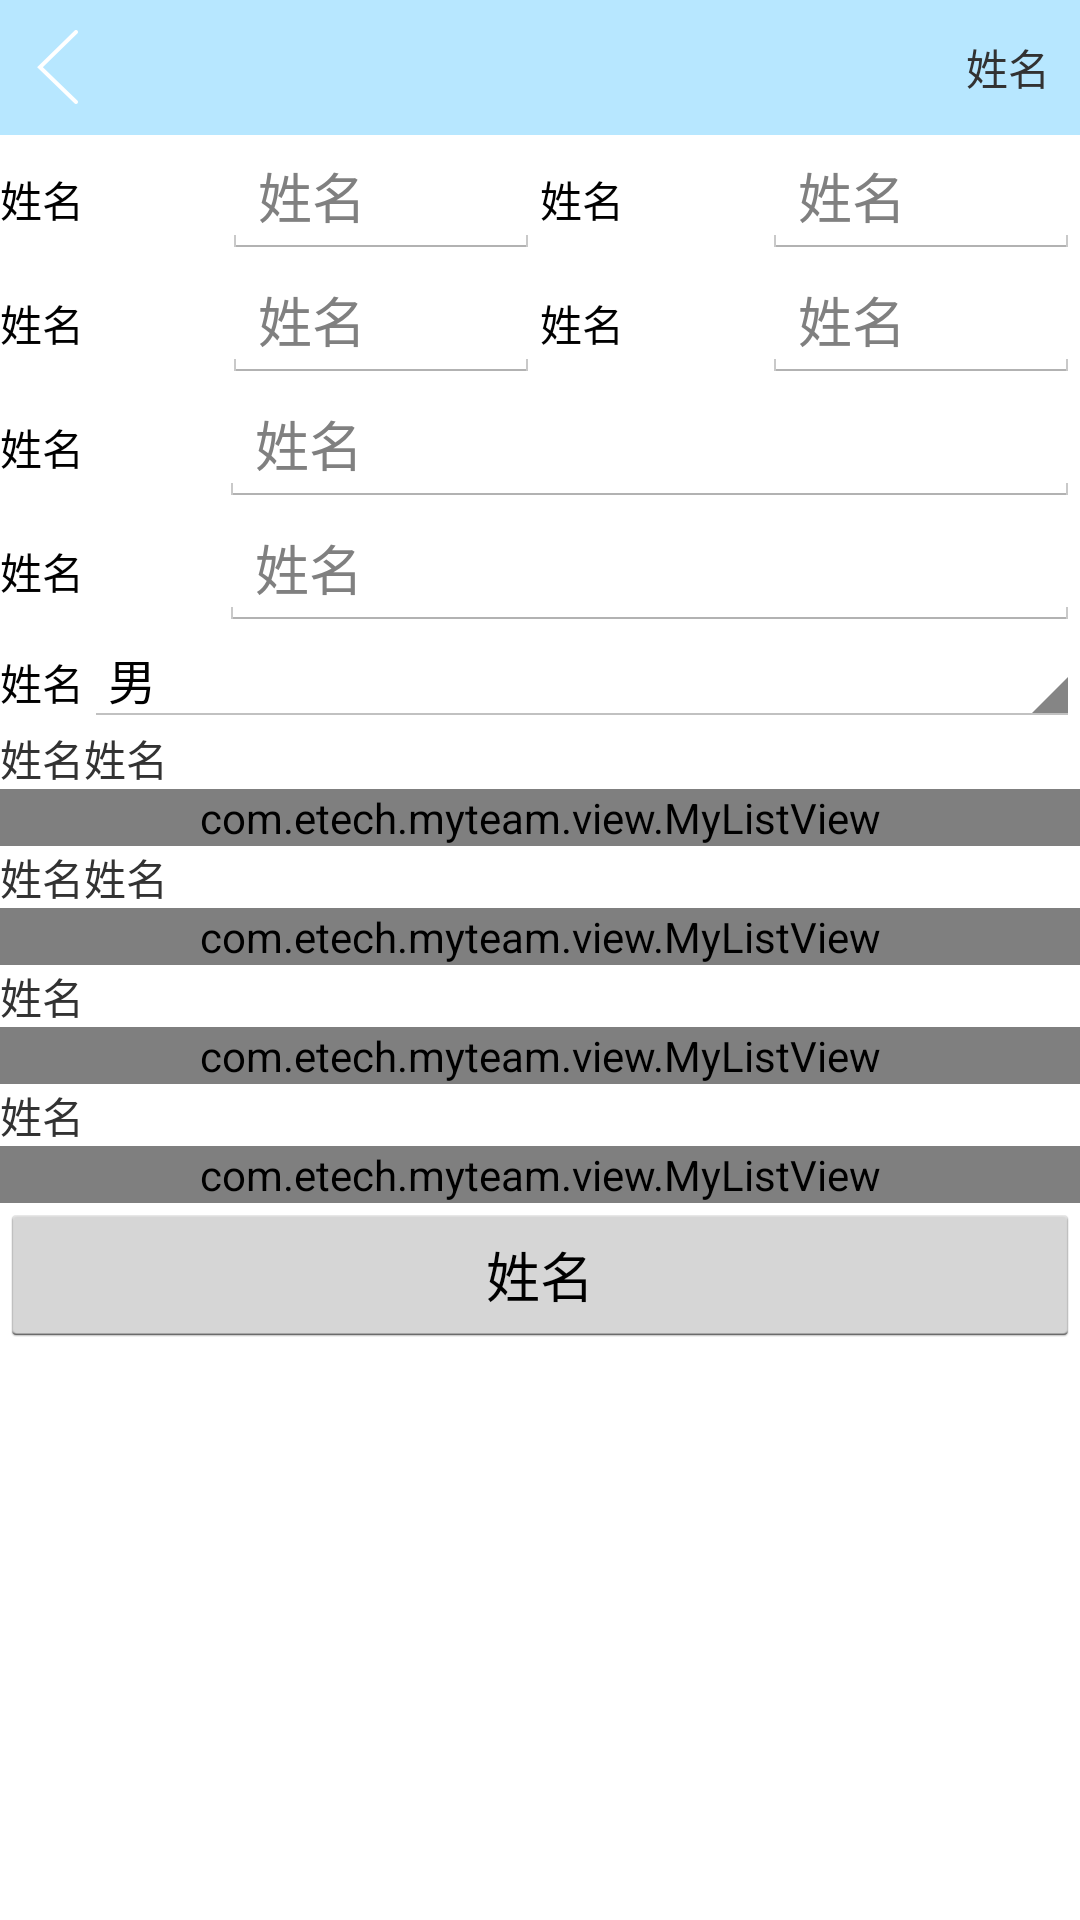

Where icons sit on this 1080×1920 app screen, as (x1, y1, x2, y2):
returnto: (37, 30, 78, 104)
